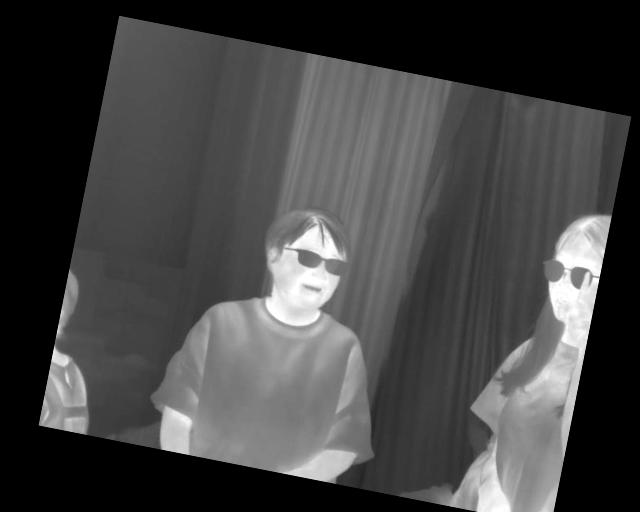face: (252, 198, 356, 317), (538, 204, 612, 327)
